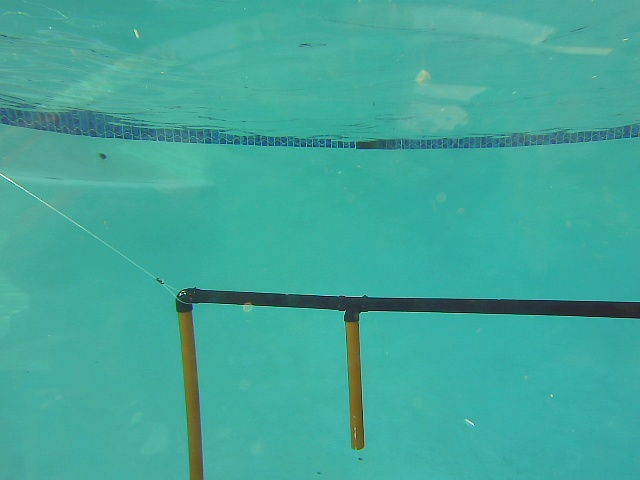Gate: (174, 306, 209, 480), (344, 313, 367, 454)
